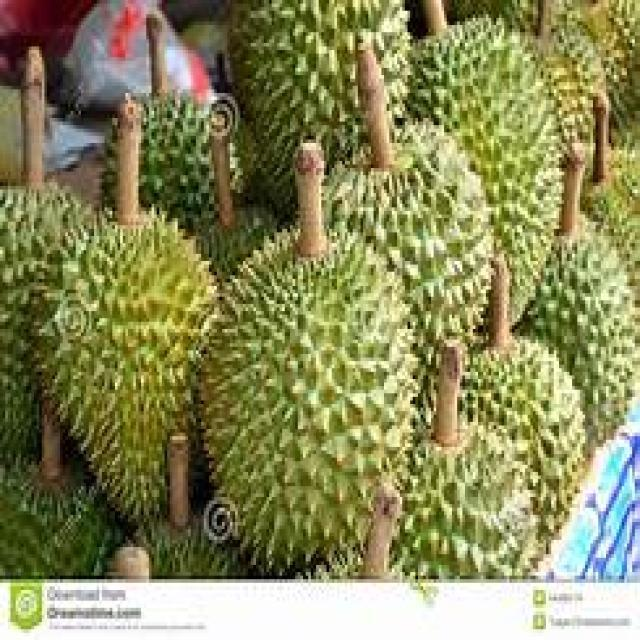immature: (198, 225, 417, 567), (29, 205, 221, 519), (399, 14, 567, 338), (318, 113, 497, 389)
